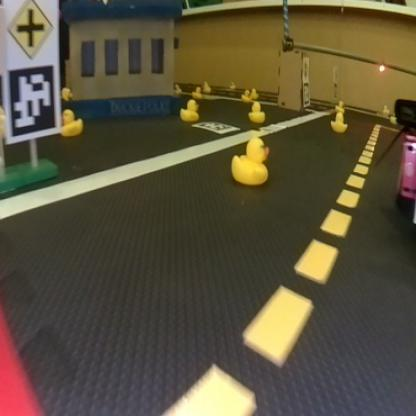duckie: (221, 130, 281, 198), (52, 104, 90, 146), (174, 91, 200, 125), (325, 106, 348, 138), (244, 96, 270, 123)
